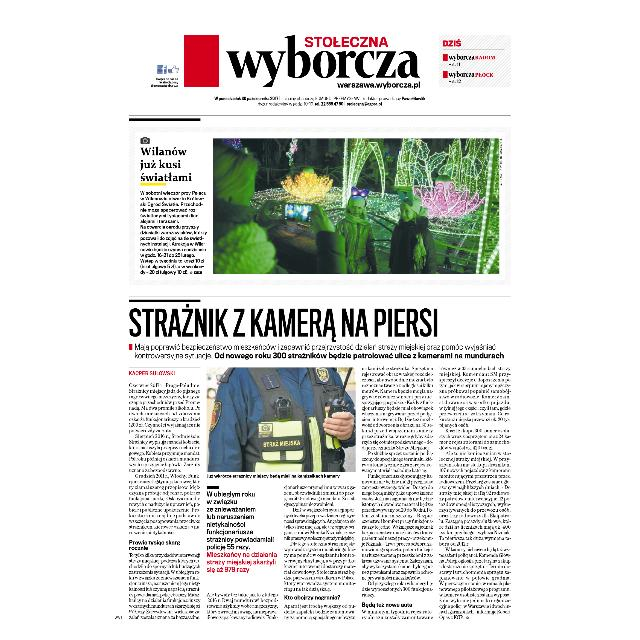article: (128, 298, 512, 624)
